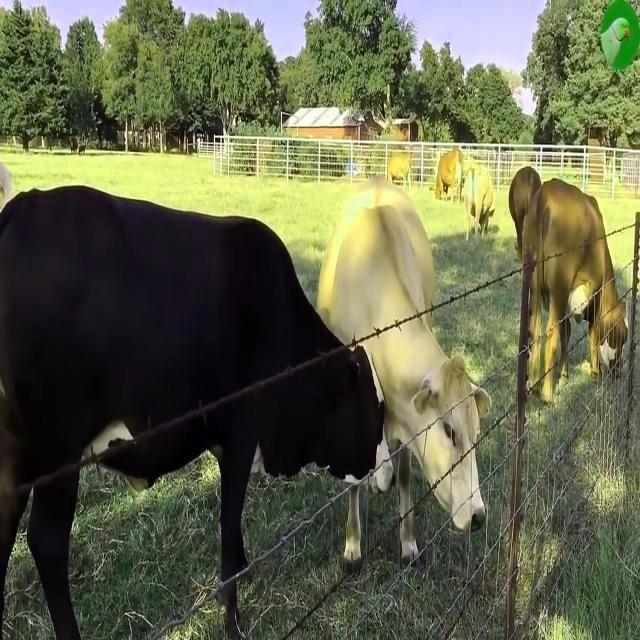cow: (0, 186, 391, 640), (364, 315, 490, 562), (522, 179, 628, 406), (319, 180, 434, 341), (342, 488, 362, 566)
